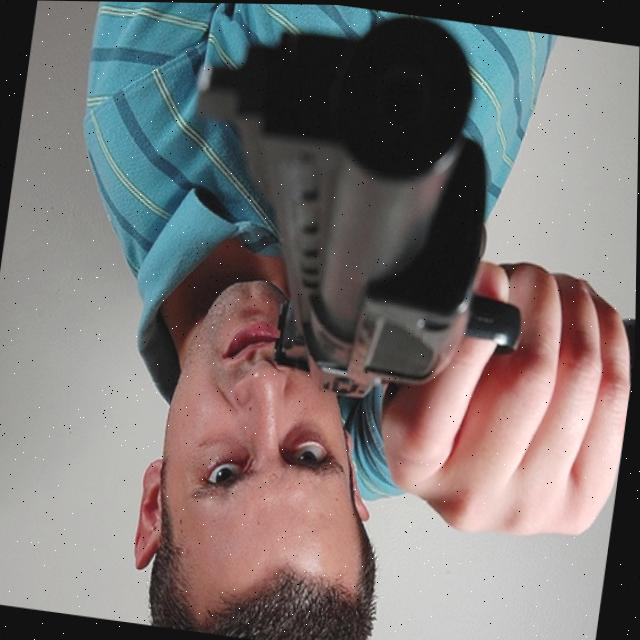pistol: (157, 2, 565, 422)
